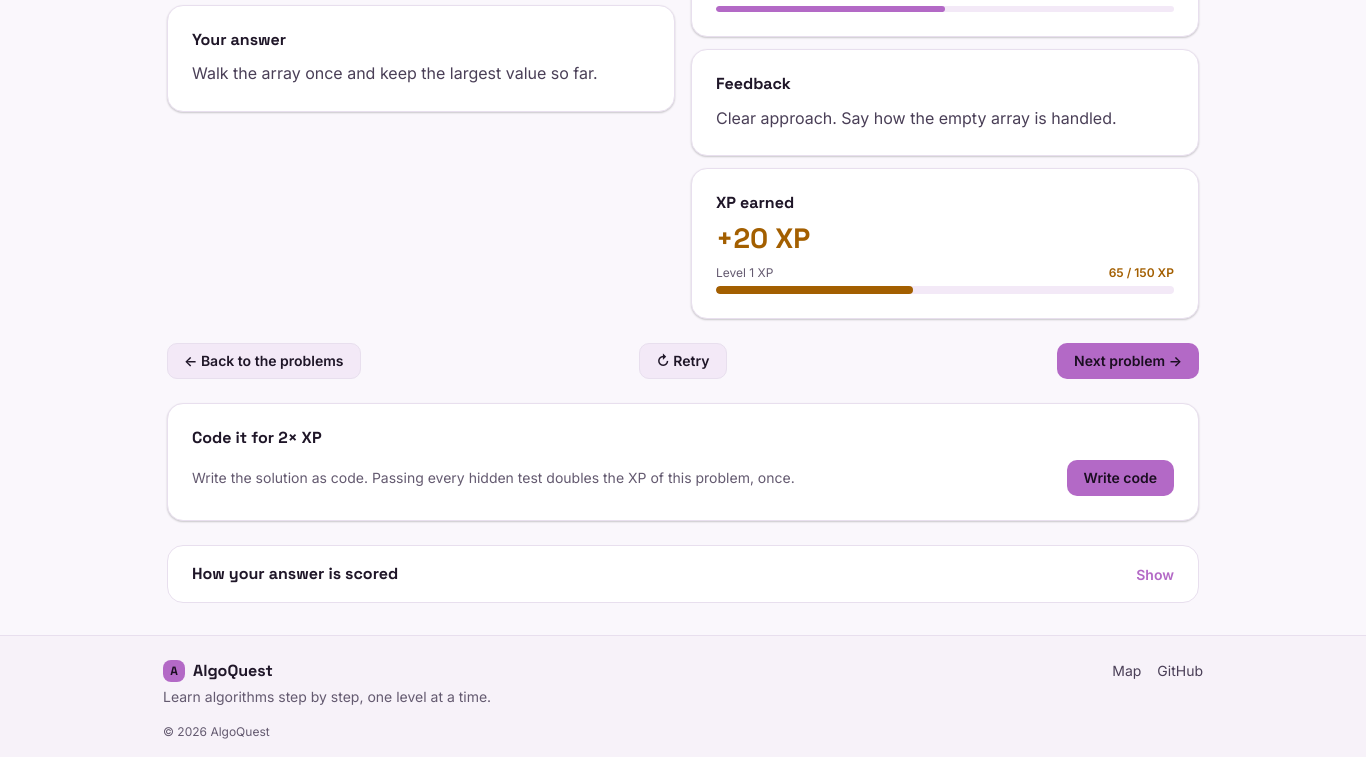
code panel › offers code under a solved problem and starts from the starter code
The width and height of the screenshot is (1366, 757).
(page scrolled)
Expected: the heading "Code it for 2× XP" is shown, [192,427,322,448]
What coordinates should you click on to do the following:
click the button "Write code"
I would click on:
 (1120, 478)
Its box is [1067,460,1174,496].
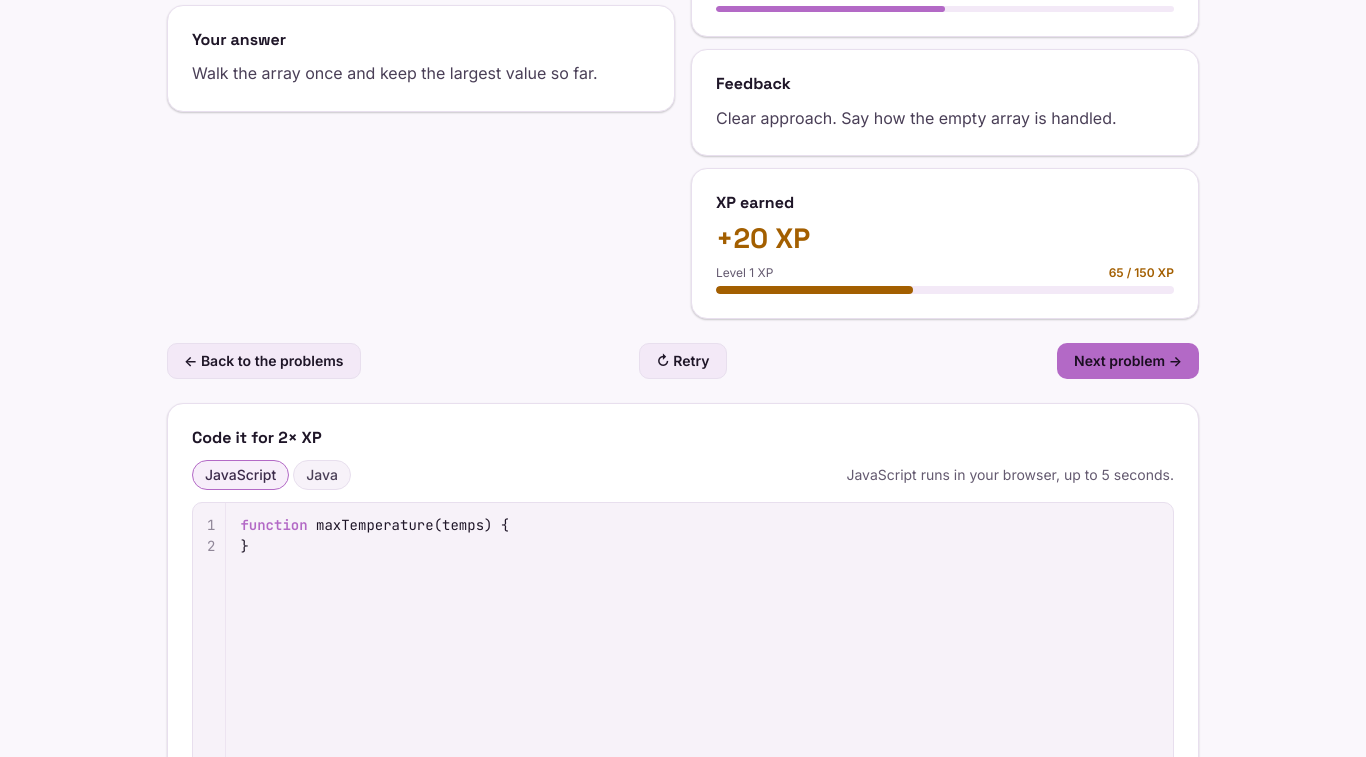
What coordinates should you click on to do the following:
click the button "Java"
I would click on:
 (322, 475)
Its box is [293,460,351,490].
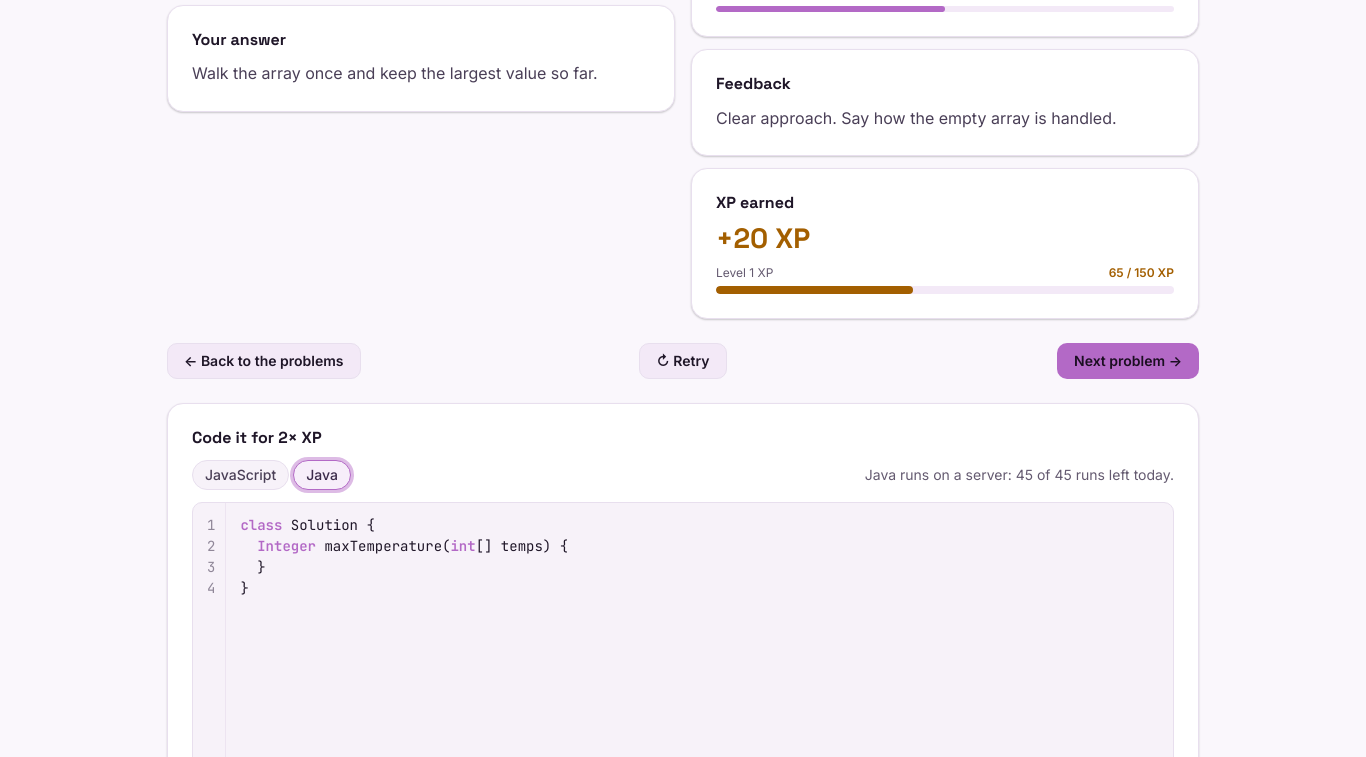
Expected: the text "Java runs on a server: 45 of 45 runs left today." is shown, [865,464,1174,485]
